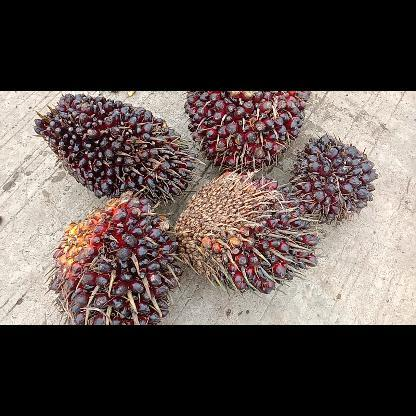TBS mentah: (32, 92, 202, 208), (175, 169, 321, 295), (43, 191, 180, 324), (184, 91, 310, 171), (288, 132, 378, 226)
